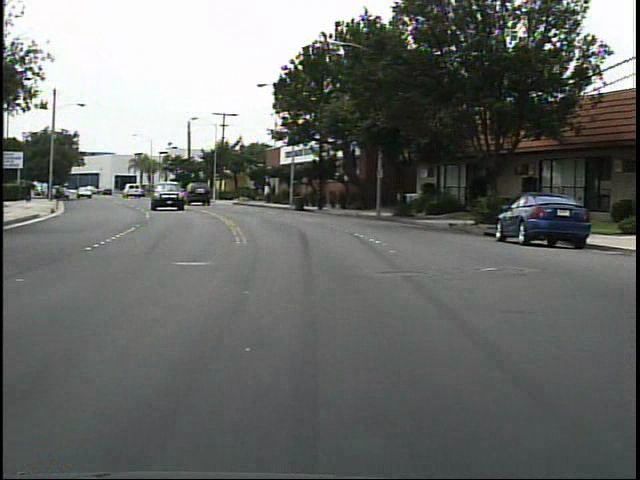person: (22, 182, 34, 204)
